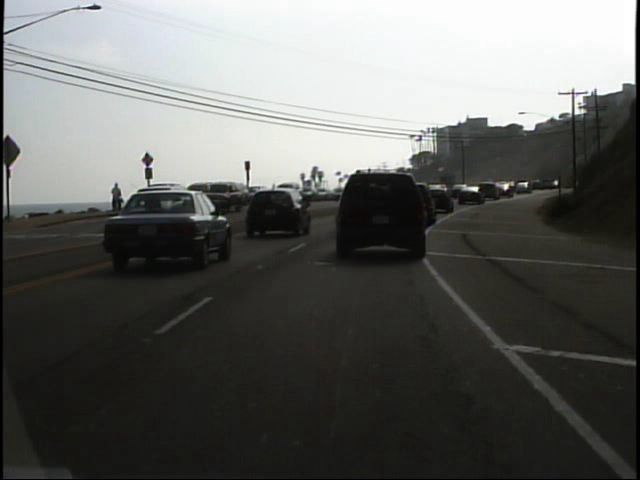person: (109, 180, 126, 216)
